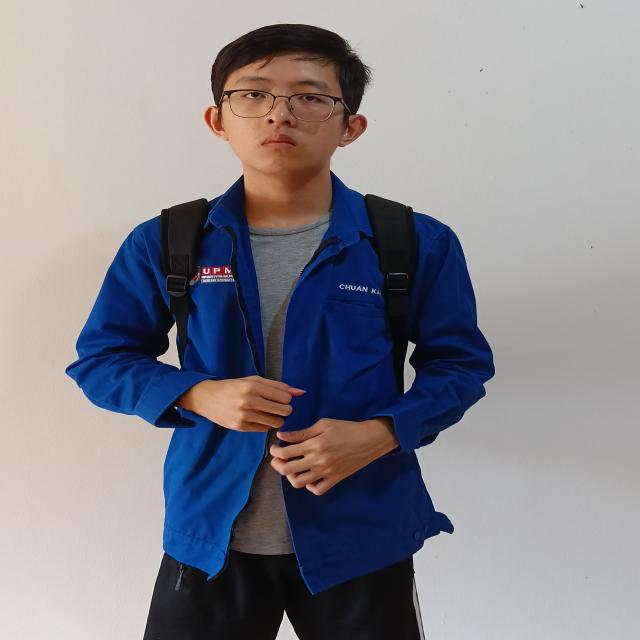person_with_labcoat: (67, 25, 494, 640)
